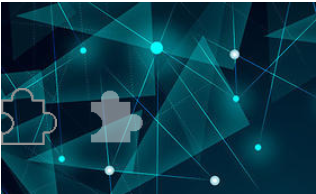target: (88, 87, 144, 145)
